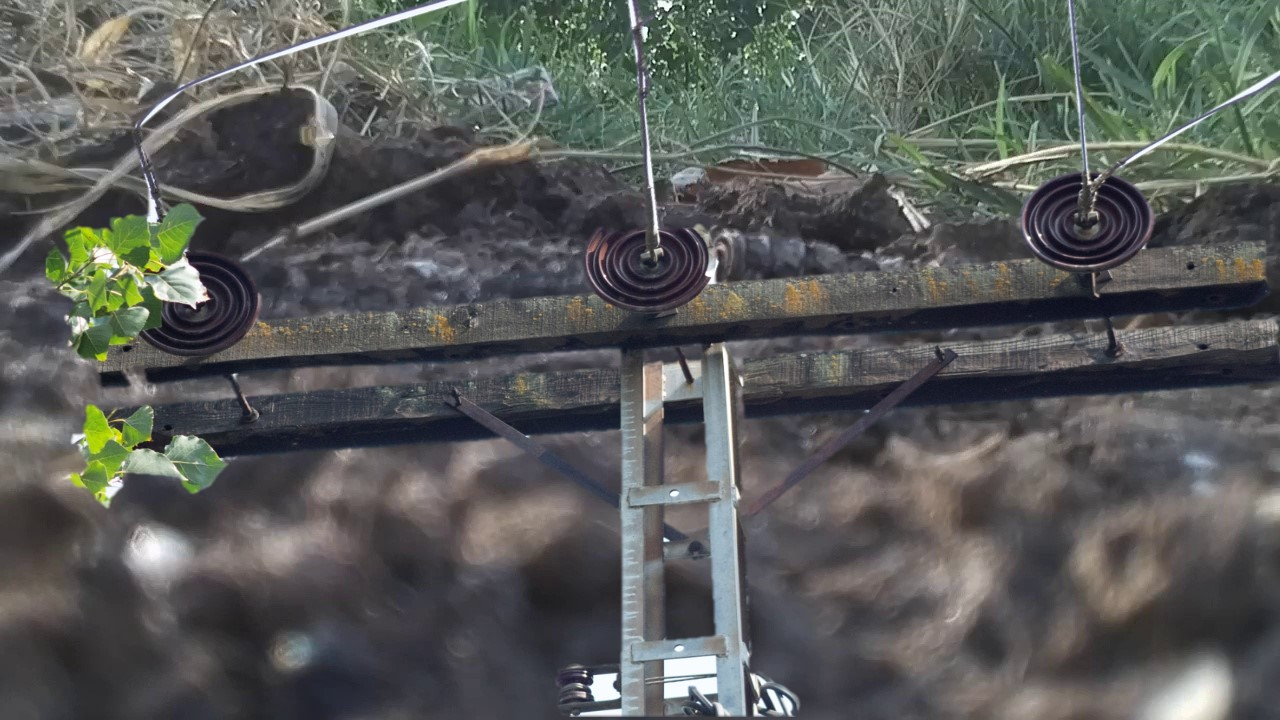defect_disc: (576, 219, 729, 311)
insulator_disc: (1019, 170, 1157, 274), (170, 251, 265, 358)
